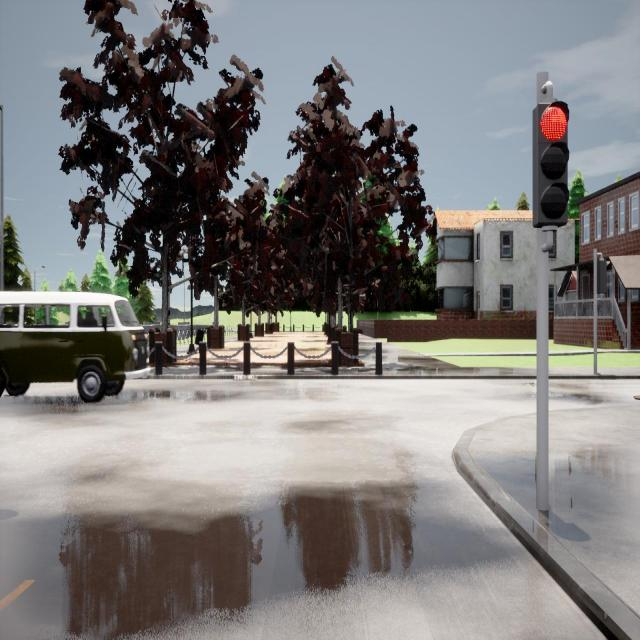Vehicle: (0, 291, 146, 401)
traffic_light: (532, 102, 570, 228), (597, 260, 611, 294)
